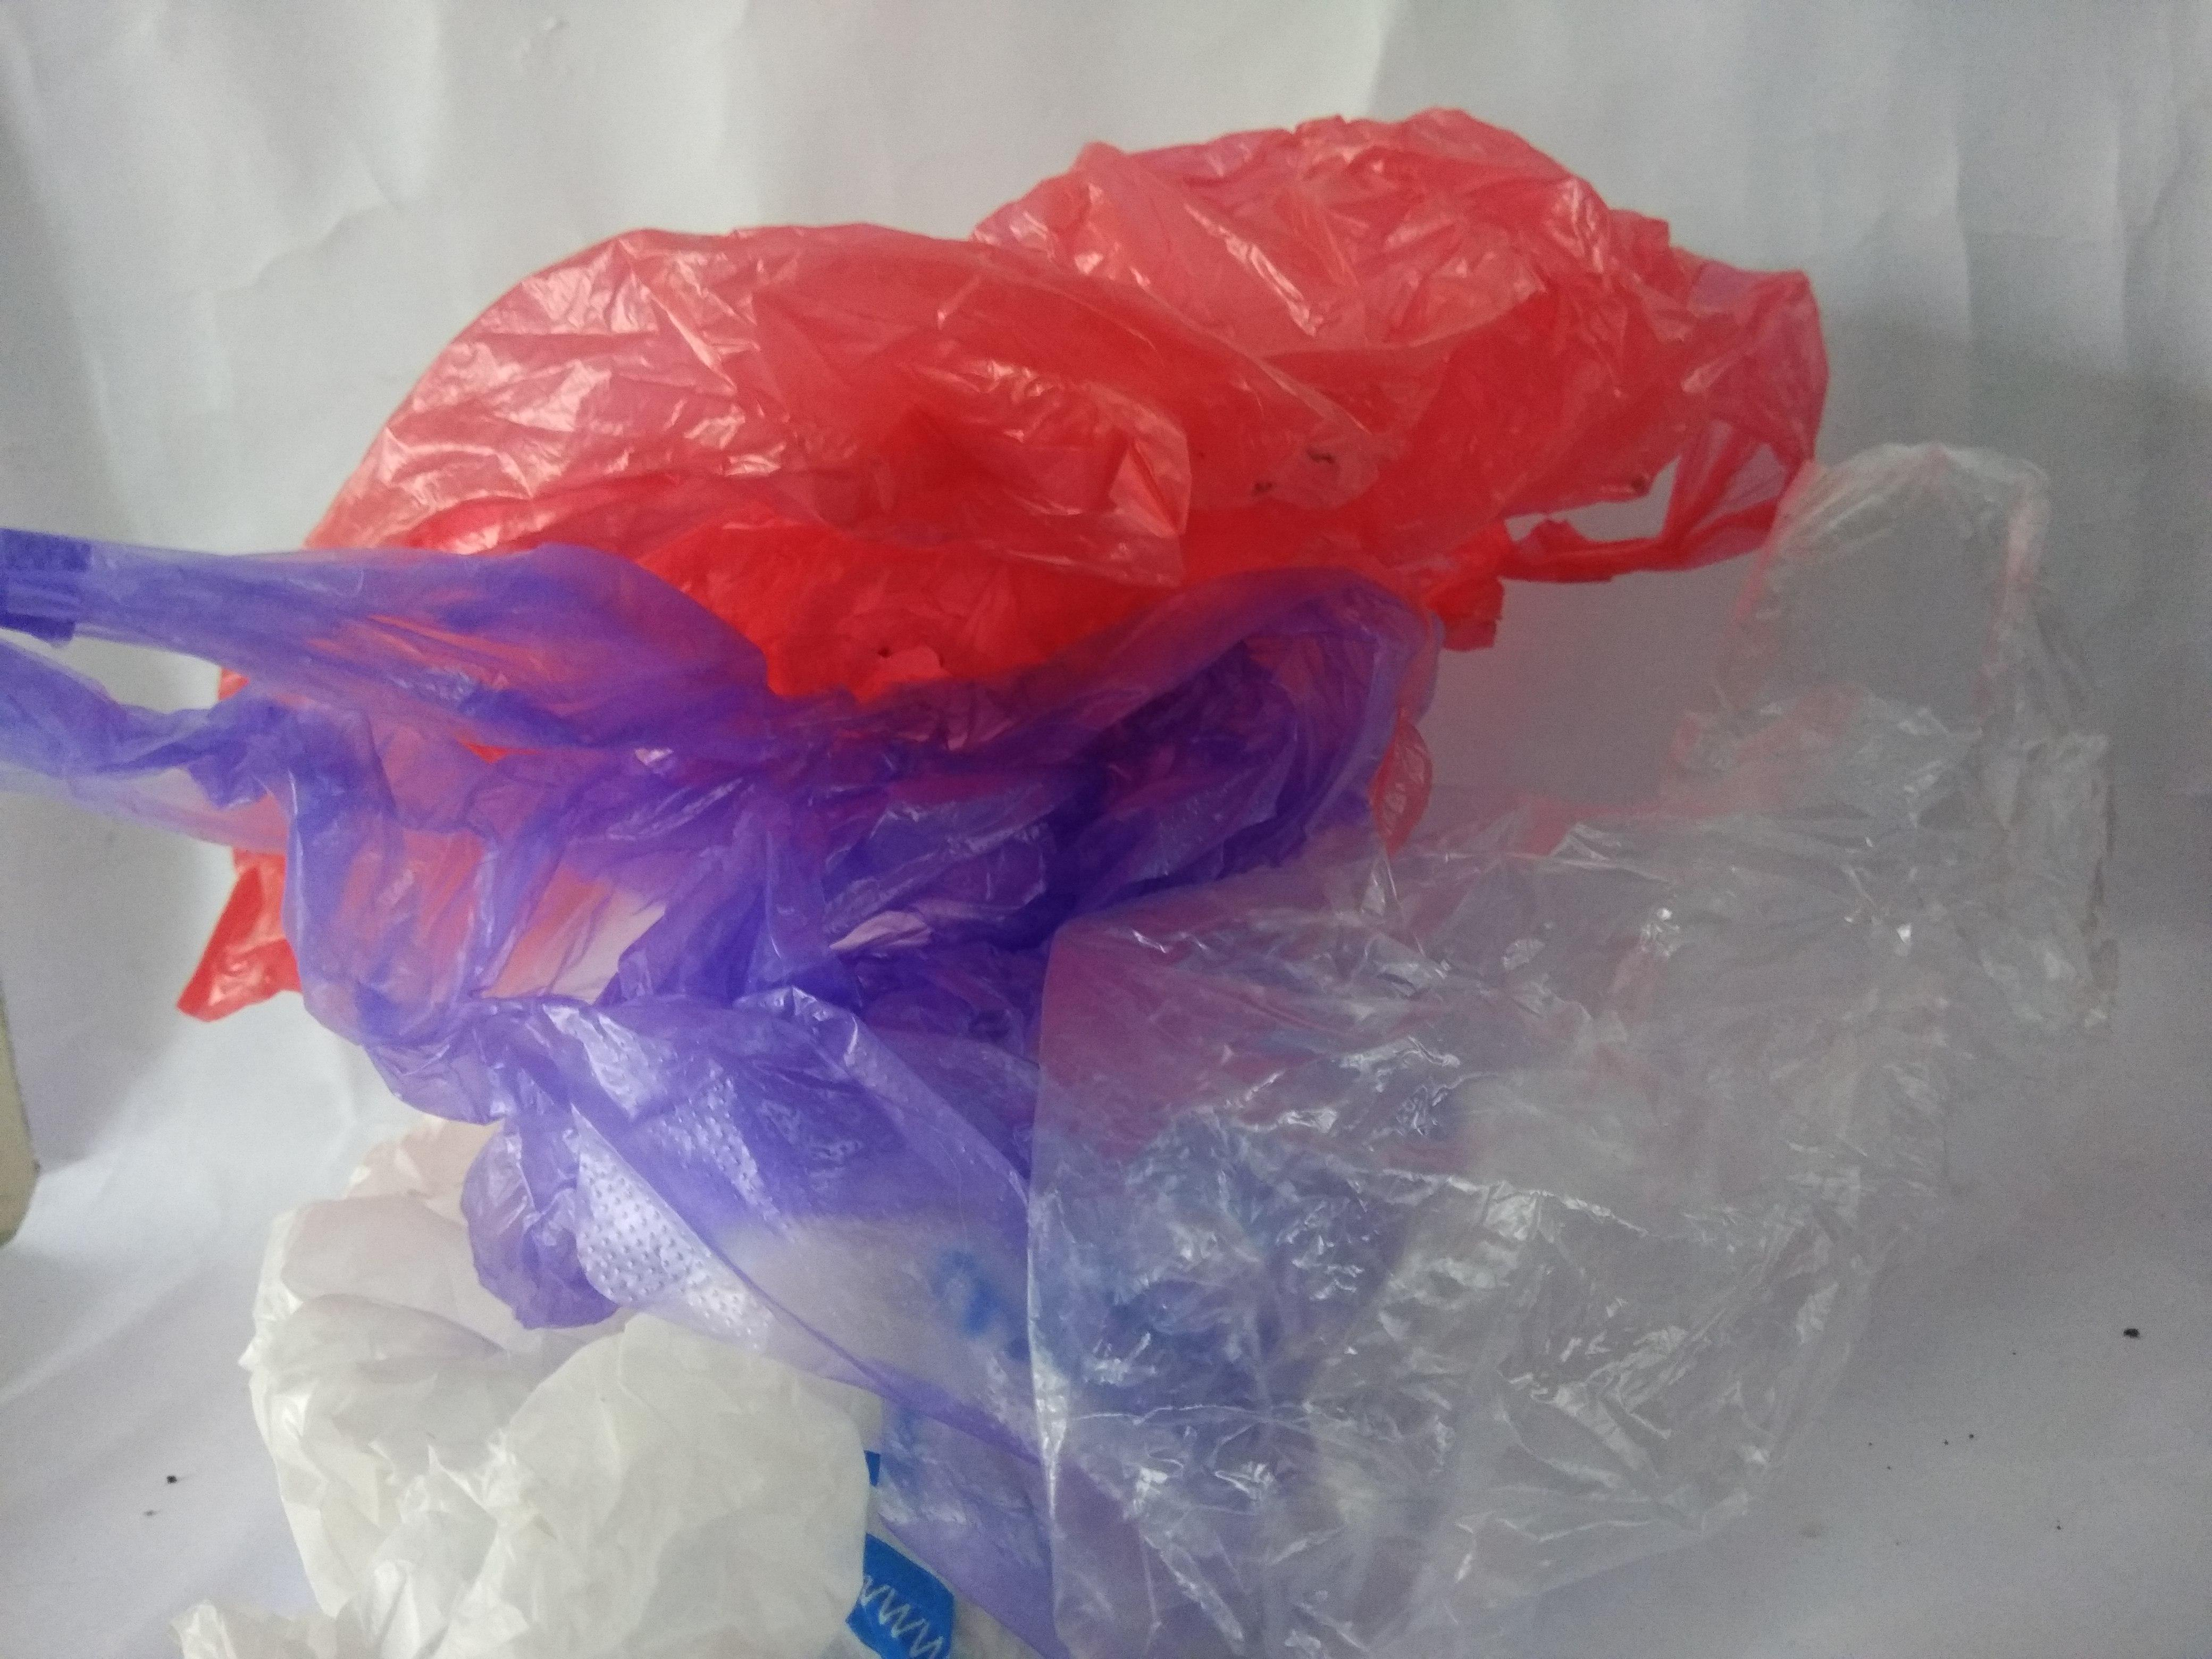LDPE: (174, 108, 1827, 1021), (1028, 444, 2130, 1659), (0, 532, 1402, 1331), (176, 1096, 1024, 1659)
